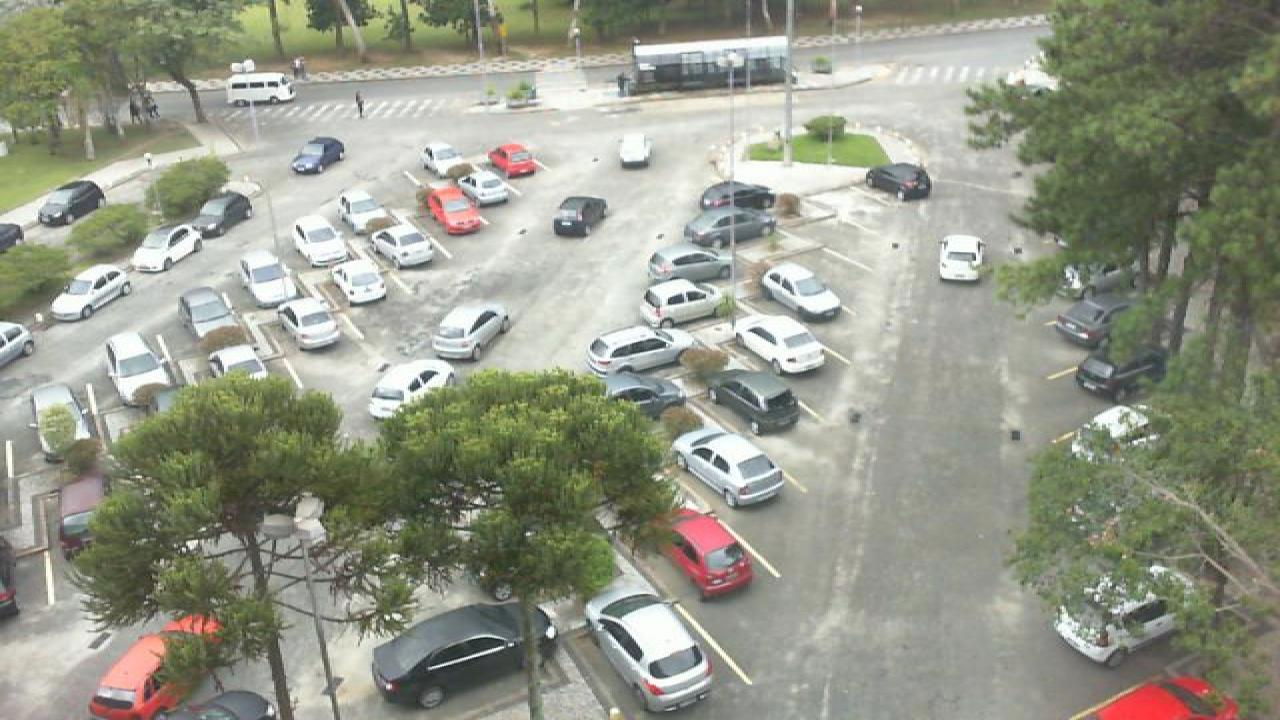Car: (368, 600, 558, 708), (584, 592, 714, 713), (84, 612, 228, 720), (1048, 561, 1174, 666), (668, 426, 788, 509), (662, 508, 752, 598), (706, 371, 802, 436), (734, 313, 828, 377), (584, 325, 698, 377), (104, 330, 176, 407), (364, 360, 454, 421), (758, 261, 844, 324), (1074, 348, 1166, 405), (428, 302, 512, 364), (46, 262, 132, 322), (600, 371, 692, 421), (174, 286, 238, 350), (640, 278, 726, 325), (1054, 298, 1128, 350), (130, 223, 204, 272), (238, 248, 302, 304), (682, 209, 778, 246), (280, 298, 346, 351), (34, 179, 106, 227), (646, 244, 738, 281), (188, 192, 256, 238), (290, 214, 350, 266), (426, 181, 484, 234), (1056, 262, 1132, 302), (368, 226, 436, 270), (328, 259, 388, 307), (862, 161, 932, 201), (696, 180, 776, 214), (206, 344, 272, 382), (550, 195, 608, 238), (288, 136, 348, 176), (338, 190, 396, 231), (484, 143, 542, 179), (418, 142, 468, 181), (462, 170, 512, 206)
